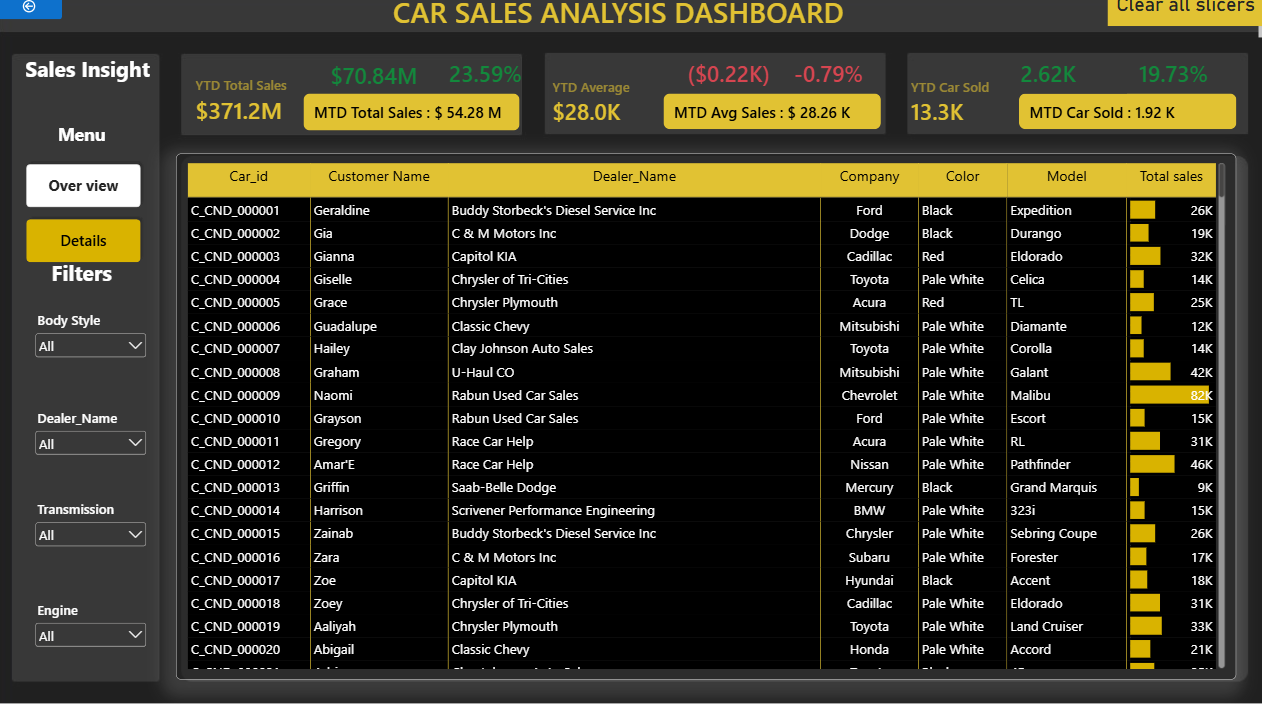

Layout of this report page (visuals, bound fields, positions):
{"tool":"powerbi","page":{"name":"Details","canvas":[1920,1080],"ordinal":1},"visuals":[{"type":"cardVisual","fields":{"Data":["sales KPIs.YTD Total Sales"]},"box":[286.2,120.4,204.4,86.3],"z":0},{"type":"pageNavigator","box":[40.9,254.4,184,159],"z":0,"group":"g1"},{"type":"slicer","fields":{"Values":["car data.Body Style"]},"box":[54.6,480.4,177.6,82],"z":0,"group":"g2"},{"type":"cardVisual","fields":{"Data":["sales KPIs.Profit"]},"box":[490.6,93.1,177.2,61.3],"z":1000},{"type":"textbox","box":[50,195.3,159,43.2],"z":1000,"group":"g1"},{"type":"slicer","fields":{"Values":["car data.Dealer_Name"]},"box":[54.6,628.4,177.6,82],"z":1000,"group":"g2"},{"type":"cardVisual","fields":{"Data":["sales KPIs.Profit %"]},"box":[670,90.9,177.2,61.3],"z":2000},{"type":"slicer","fields":{"Values":["car data.Transmission"]},"box":[54.6,767.3,177.6,82],"z":2000,"group":"g2"},{"type":"cardVisual","fields":{"Data":["sales KPIs.MTD Total sales"]},"box":[465.6,152.2,327.1,56.8],"z":3000},{"type":"slicer","fields":{"Values":["car data.Engine"]},"box":[54.6,919.8,177.6,82],"z":3000,"group":"g2"},{"type":"cardVisual","fields":{"Data":["sales KPIs.YTD Average"]},"box":[826.8,122.7,204.4,86.3],"z":4000},{"type":"cardVisual","fields":{"Data":["sales KPIs.Avg profit"]},"box":[1031.2,90.9,177.2,61.3],"z":5000},{"type":"cardVisual","fields":{"Data":["sales KPIs.Avg profit %"]},"box":[1192.4,90.9,177.2,61.3],"z":6000},{"type":"cardVisual","fields":{"Data":["sales KPIs.MTD Average sales"]},"box":[1010.7,152.2,329.3,54.5],"z":7000},{"type":"cardVisual","fields":{"Data":["sales KPIs.YTD Car Sold"]},"box":[1369.6,122.7,204.4,86.3],"z":8000},{"type":"cardVisual","fields":{"Data":["sales KPIs.Car sold diff"]},"box":[1535.4,90.9,177.2,61.3],"z":9000},{"type":"cardVisual","fields":{"Data":["sales KPIs.Car sold %"]},"box":[1714.8,90.9,177.2,61.3],"z":10000},{"type":"cardVisual","fields":{"Data":["sales KPIs.MTD Car sol"]},"box":[1549,152.2,329.3,54.5],"z":11000},{"type":"textbox","box":[27.3,403,204.9,56.9],"z":14000},{"type":"textbox","box":[36.4,93.3,204.9,59.2],"z":15000},{"type":"textbox","box":[54.6,163.9,157.1,61.5],"z":16000},{"type":"textbox","box":[541.9,0,799.1,68.3],"z":17000},{"type":"tableEx","fields":{"Values":["car data.Car_id","car data.Customer Name","car data.Dealer_Name","car data.Company","car data.Color","car data.Model","sales KPIs.Total sales"]},"box":[273.2,243.6,1605.1,796.8],"z":19000},{"type":"actionButton","box":[0,0,100,40],"z":20000},{"type":"group","id":"g1","title":"Group 2","box":[40.9,195.3,184,218],"z":21002},{"type":"group","id":"g2","title":"Group 1","box":[54.6,480.4,177.6,521.4],"z":21003},{"type":"actionButton","box":[1719.4,0,200,50],"z":21004}]}

Visuals, with their boxes in screenshot pixels (x1, y1, x2, y2), scaled from the page's 1920x1080 canvas onto the 1262x704 screenshot:
cardVisual - sales KPIs.YTD Total Sales: bbox(188, 78, 322, 135)
pageNavigator: bbox(27, 166, 148, 269)
slicer - car data.Body Style: bbox(36, 313, 153, 367)
cardVisual - sales KPIs.Profit: bbox(322, 61, 439, 101)
textbox: bbox(33, 127, 137, 155)
slicer - car data.Dealer_Name: bbox(36, 410, 153, 463)
cardVisual - sales KPIs.Profit %: bbox(440, 59, 557, 99)
slicer - car data.Transmission: bbox(36, 500, 153, 554)
cardVisual - sales KPIs.MTD Total sales: bbox(306, 99, 521, 136)
slicer - car data.Engine: bbox(36, 600, 153, 653)
cardVisual - sales KPIs.YTD Average: bbox(543, 80, 678, 136)
cardVisual - sales KPIs.Avg profit: bbox(678, 59, 794, 99)
cardVisual - sales KPIs.Avg profit %: bbox(784, 59, 900, 99)
cardVisual - sales KPIs.MTD Average sales: bbox(664, 99, 881, 135)
cardVisual - sales KPIs.YTD Car Sold: bbox(900, 80, 1035, 136)
cardVisual - sales KPIs.Car sold diff: bbox(1009, 59, 1126, 99)
cardVisual - sales KPIs.Car sold %: bbox(1127, 59, 1244, 99)
cardVisual - sales KPIs.MTD Car sol: bbox(1018, 99, 1235, 135)
textbox: bbox(18, 263, 153, 300)
textbox: bbox(24, 61, 159, 99)
textbox: bbox(36, 107, 139, 147)
textbox: bbox(356, 0, 881, 45)
tableEx - car data.Car_id x car data.Customer Name: bbox(180, 159, 1235, 678)
actionButton: bbox(0, 0, 66, 26)
"Group 2" group: bbox(27, 127, 148, 269)
"Group 1" group: bbox(36, 313, 153, 653)
actionButton: bbox(1130, 0, 1261, 33)
